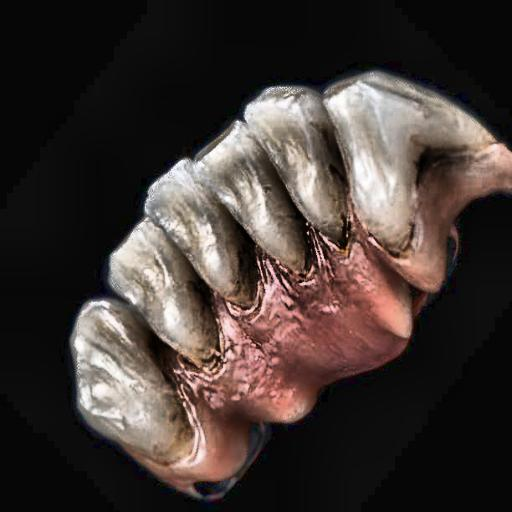Calculus: (137, 204, 452, 450)
